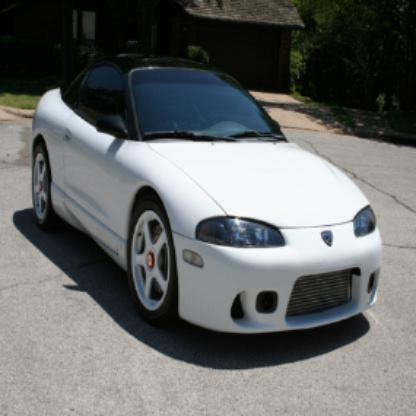Vehicle: (32, 52, 383, 336)
